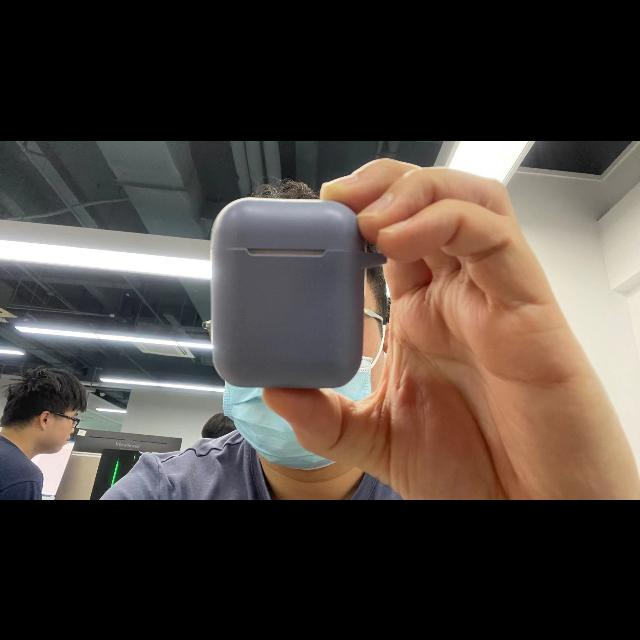airpods: (211, 198, 384, 388)
